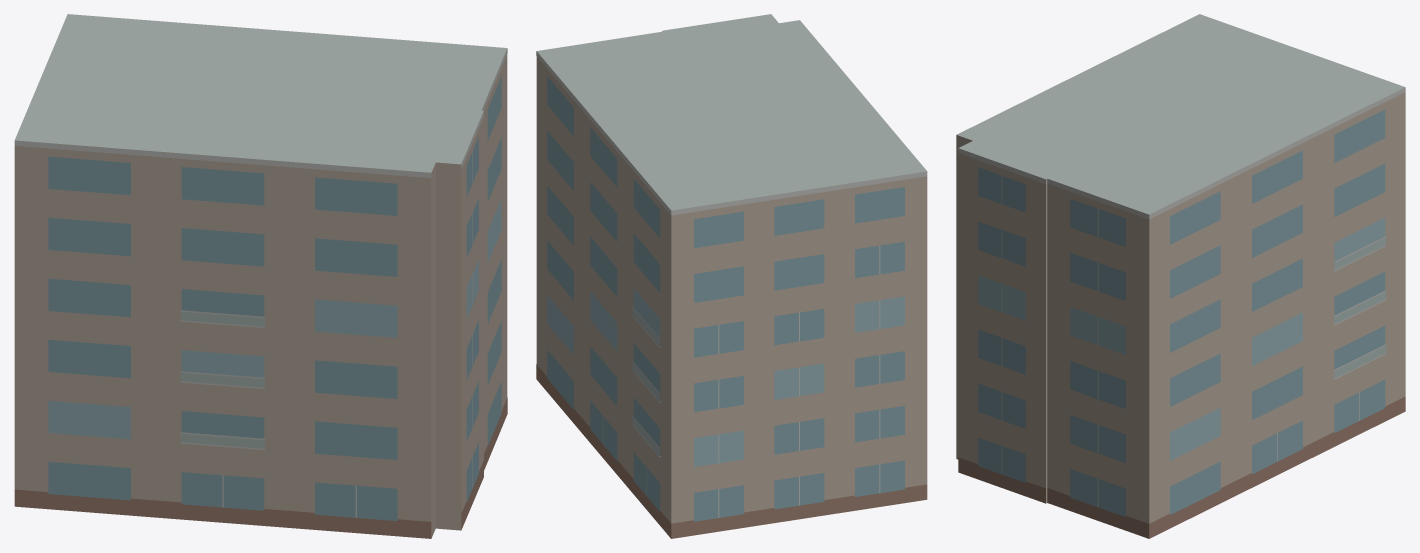
File: survey-upis-32699716.glb
3 views of the same model, side by side, from view 1: azimuth 30°, elevation 25°; view 2: azimuth 150°, elevation 25°; view 3: azimuth 270°, elevation 25° (orthographic). The views are drawn at different scales.
Parts seen in each view (by area): view 1: survey-upis-32699716.tmp; view 2: survey-upis-32699716.tmp; view 3: survey-upis-32699716.tmp.
Boxes of the visible parts, box(x1,y1,x2,y2) form: survey-upis-32699716.tmp: box(14, 14, 507, 538); survey-upis-32699716.tmp: box(536, 14, 927, 538); survey-upis-32699716.tmp: box(956, 14, 1405, 538).
Bounding box in the file's own units: 21.84 × 16.45 × 20.66.
